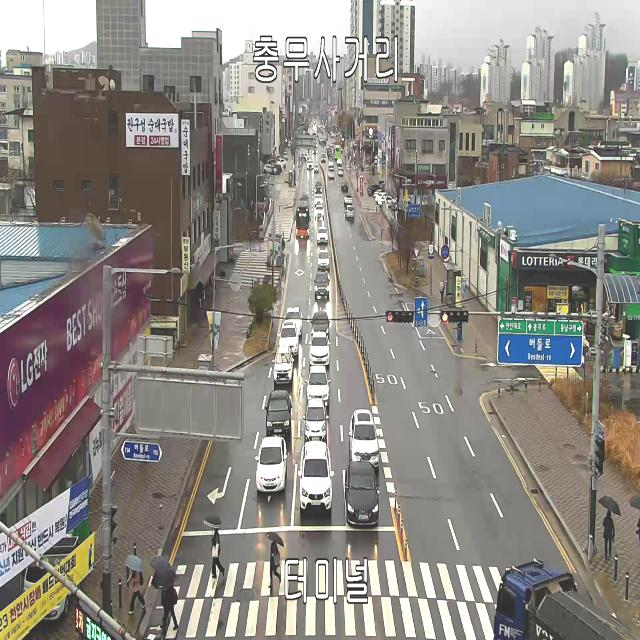Bus: (294, 197, 310, 237), (334, 147, 341, 158)
Car: (298, 441, 334, 511), (345, 462, 380, 527), (255, 436, 288, 492), (349, 409, 380, 468), (265, 389, 291, 437), (302, 399, 328, 443), (304, 366, 332, 406), (272, 346, 294, 384), (308, 331, 330, 365), (278, 322, 300, 356), (284, 306, 302, 336), (311, 311, 330, 339), (314, 272, 330, 295), (317, 250, 330, 270), (378, 195, 396, 207), (316, 227, 328, 243), (262, 164, 278, 174), (345, 205, 355, 220), (367, 185, 379, 196), (376, 192, 388, 202), (373, 188, 385, 197), (315, 205, 324, 217), (315, 194, 322, 207), (315, 181, 322, 194), (277, 159, 286, 169), (344, 194, 352, 205), (328, 168, 335, 178), (300, 154, 310, 160), (321, 152, 326, 163), (307, 160, 313, 169), (342, 182, 348, 190), (328, 159, 334, 167), (283, 152, 288, 161), (314, 164, 319, 173), (338, 168, 343, 175), (337, 158, 342, 164), (374, 156, 377, 164), (306, 148, 311, 152), (313, 148, 317, 153)
Truck: (493, 559, 640, 640), (24, 536, 80, 620)
